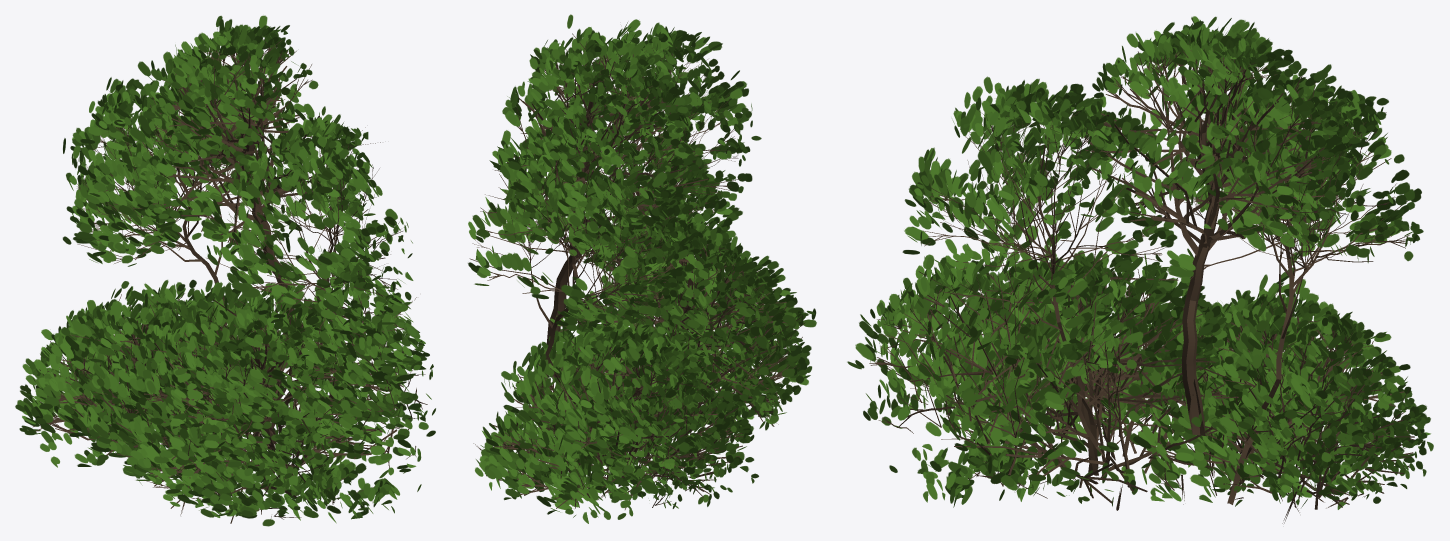
The picture shows the model from 3 angles, left to right: view 1: azimuth 30°, elevation 25°; view 2: azimuth 150°, elevation 25°; view 3: azimuth 270°, elevation 25°; orthographic projection. The views are drawn at different scales.
Visible parts, largest first — view 1: oak 01.001_trunk_Mat.001_0.416; view 2: oak 01.001_trunk_Mat.001_0.416; view 3: oak 01.001_trunk_Mat.001_0.416.
Boxes of the visible parts, x1,y1,x2,y2 form: oak 01.001_trunk_Mat.001_0.416: (15, 15, 435, 526); oak 01.001_trunk_Mat.001_0.416: (468, 14, 816, 523); oak 01.001_trunk_Mat.001_0.416: (847, 16, 1433, 523).
Bounding box in the file's own units: 3.16 × 5.16 × 5.55.
Materials: 2 (1 with a texture image).
